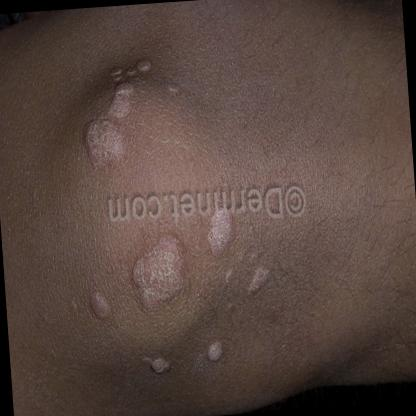Warts: (118, 226, 202, 326), (78, 108, 132, 186), (244, 260, 278, 306), (200, 326, 229, 376), (138, 345, 175, 378)
